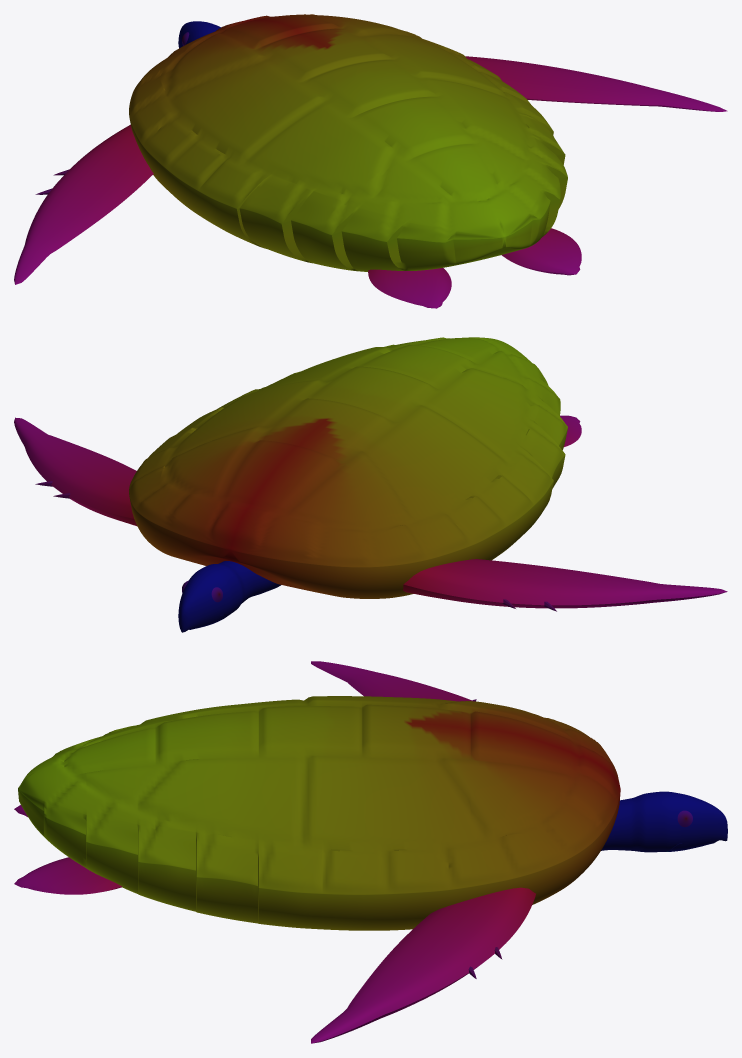
The model's file is sea_turtle_hawksbill.glb.
3 renders of one model, top to bottom at view 1: azimuth 30°, elevation 25°; view 2: azimuth 150°, elevation 25°; view 3: azimuth 270°, elevation 25°, orthographic. The views are drawn at different scales.
Parts seen in each view (by area): view 1: sea_turtle_hawksbill; view 2: sea_turtle_hawksbill; view 3: sea_turtle_hawksbill.
Part boxes in pixels (<box>): sea_turtle_hawksbill: <box>14,14,727,308</box>; sea_turtle_hawksbill: <box>14,337,727,632</box>; sea_turtle_hawksbill: <box>14,661,727,1043</box>.
Size of the model in its own units: 1.35 by 0.2415 by 1.07.
